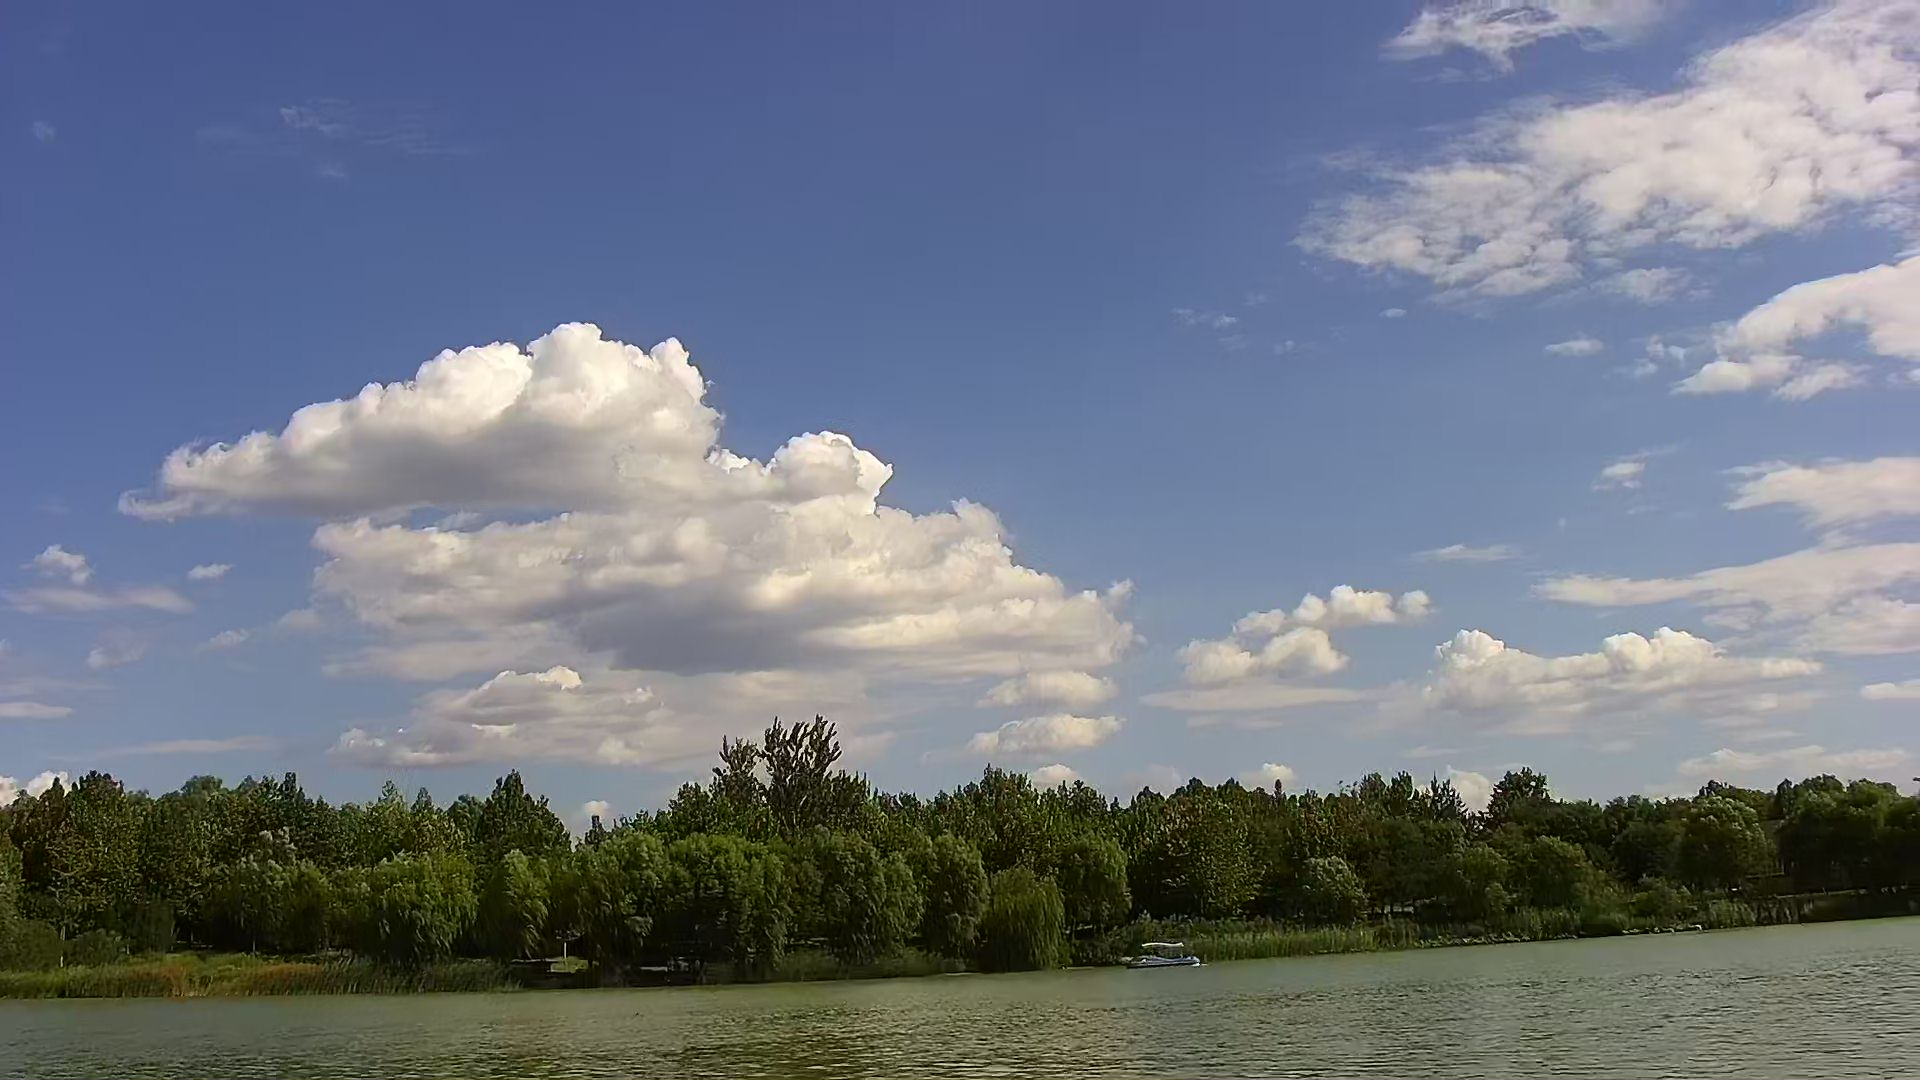boat: (1122, 936, 1215, 978)
